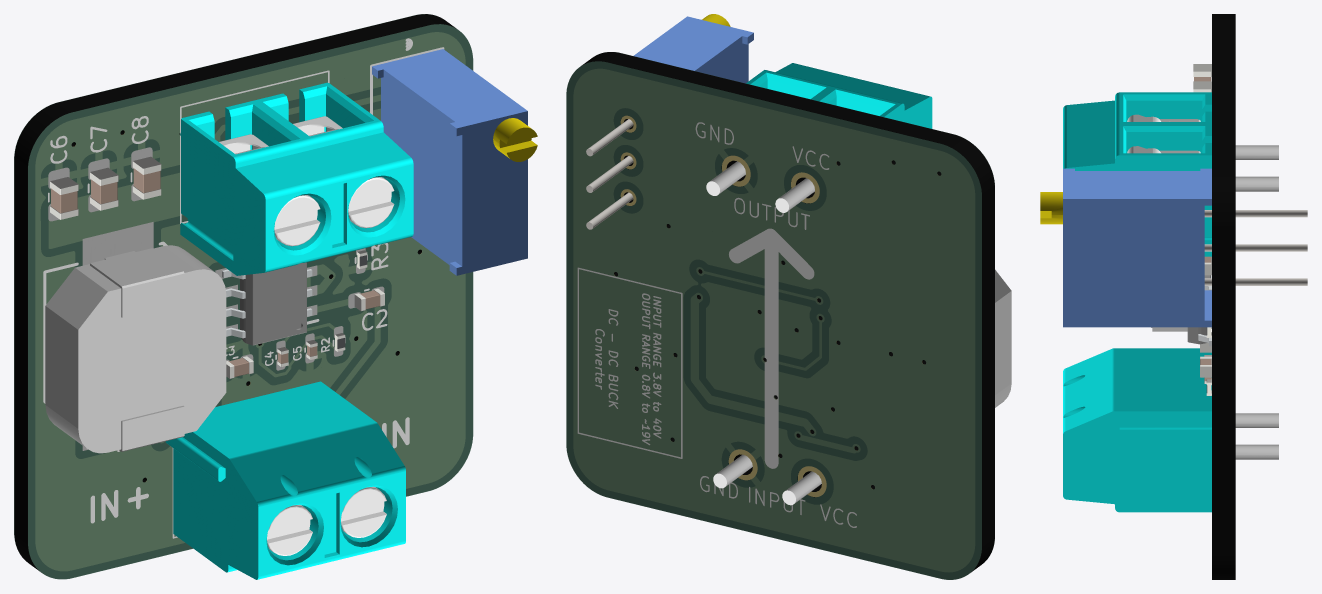
Rendered from Buck converter.glb.
3 views of the same model, side by side, from view 1: azimuth 30°, elevation 25°; view 2: azimuth 150°, elevation 25°; view 3: azimuth 270°, elevation 25° (orthographic). The views are drawn at different scales.
Parts seen in each view (by area): view 1: Shape (×33); view 2: Shape (×11); view 3: Shape (×22).
Boxes of the visible parts, x1,y1,x2,y2 form: Shape (×33): [14, 14, 527, 579]; Shape (×11): [566, 16, 1011, 579]; Shape (×22): [1040, 14, 1307, 579].
Bounding box in the file's own units: 30.1 × 30.1 × 17.96.
